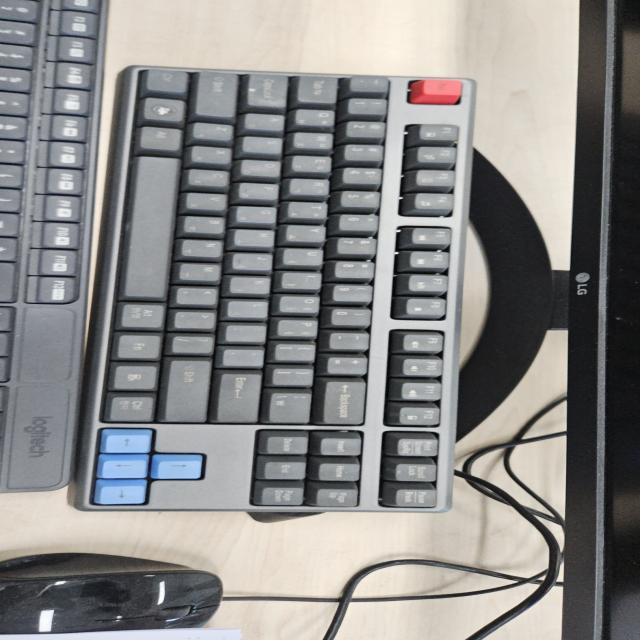Keyboard: (69, 63, 475, 513)
Mouse: (1, 550, 226, 634)
